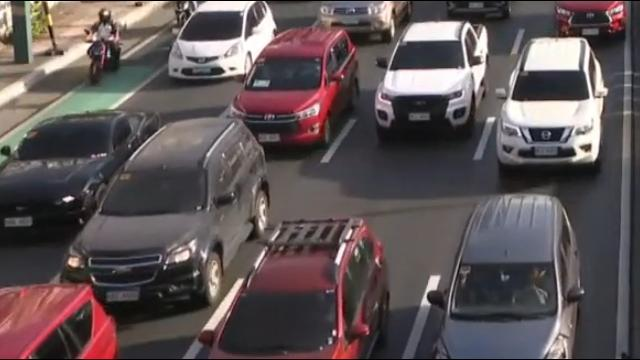car: (59, 116, 267, 313), (198, 217, 388, 360), (427, 191, 581, 360), (0, 111, 158, 239), (490, 34, 611, 172), (231, 27, 361, 149), (162, 0, 272, 86), (0, 281, 118, 359), (317, 2, 411, 42), (555, 1, 627, 42), (446, 1, 511, 21)
motorcycle: (82, 12, 123, 84), (173, 1, 199, 28)
pickup-truck: (372, 14, 490, 145)
